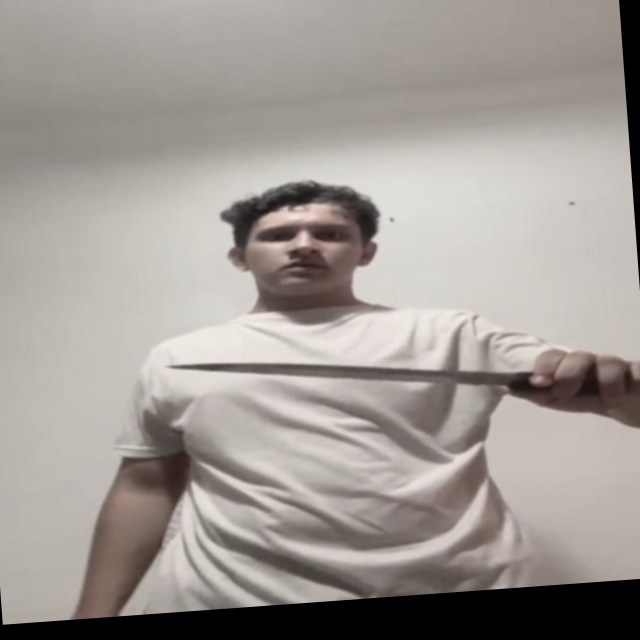Sharp-Object: (167, 339, 516, 415)
